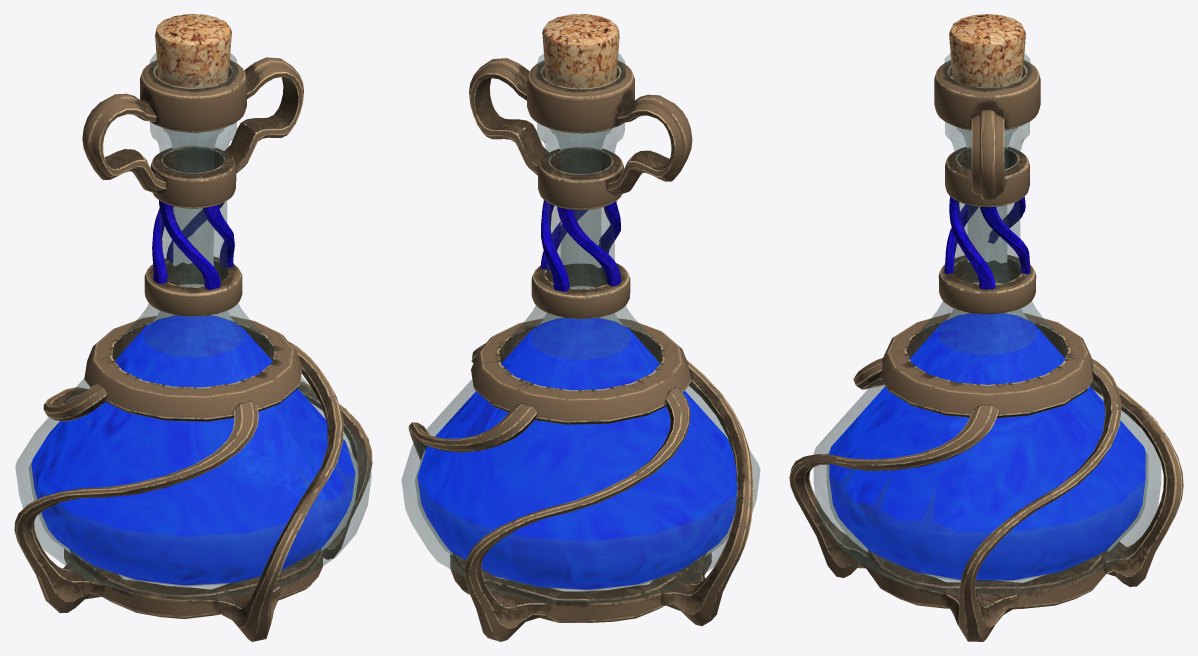
The model's file is mana_rune.glb.
3 views of the same model, side by side, from view 1: azimuth 30°, elevation 25°; view 2: azimuth 150°, elevation 25°; view 3: azimuth 270°, elevation 25° (orthographic).
Parts seen in each view (by area): view 1: Potion2; view 2: Potion2; view 3: Potion2.
Boxes of the visible parts, x1=… form: Potion2: x1=14, y1=14, x2=372, y2=641; Potion2: x1=401, y1=14, x2=760, y2=641; Potion2: x1=789, y1=14, x2=1183, y2=641.
Size of the model in its own units: 2.37 by 3.69 by 2.39.
1 material, 1 textured.
